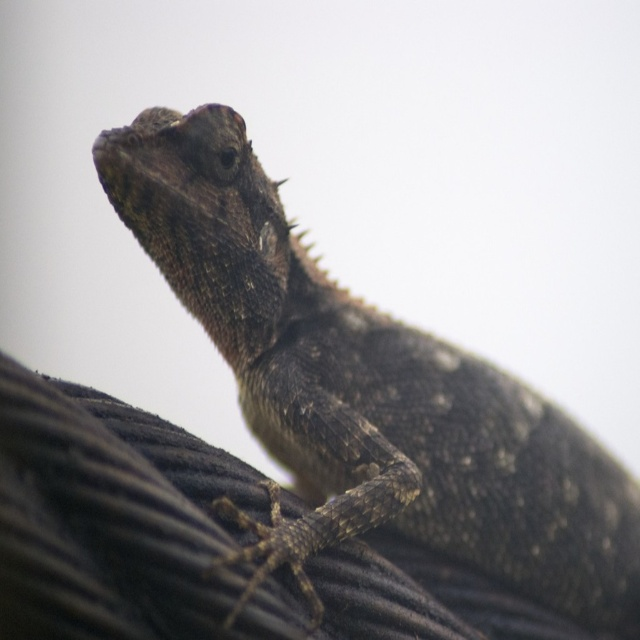Lizard: (134, 73, 630, 635)
